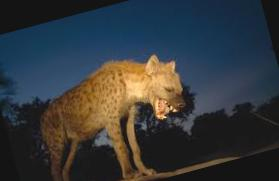hyenas: (27, 41, 213, 181)
